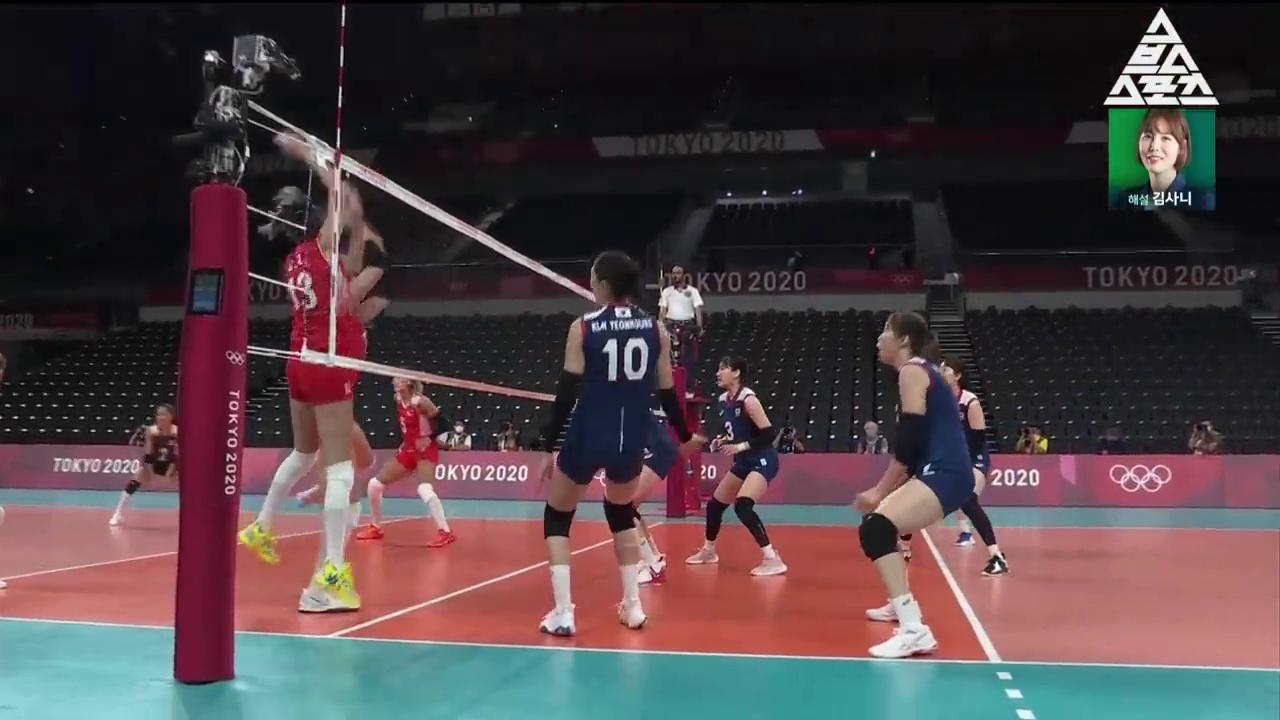player: (538, 251, 709, 634), (239, 132, 361, 610), (854, 312, 975, 658), (888, 357, 1009, 576), (684, 355, 788, 575), (355, 372, 457, 547), (110, 406, 223, 526)
referee: (659, 266, 705, 399)
